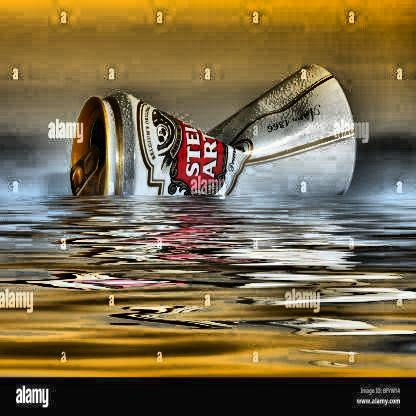Metal wastes: (66, 64, 363, 206)
